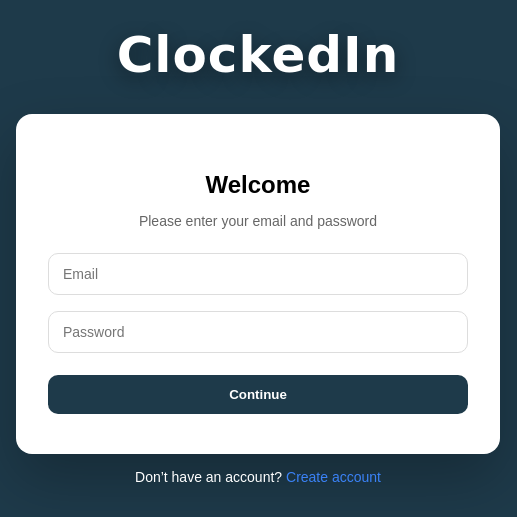
Test case: Login component › shows network error if fetch throws
The width and height of the screenshot is (517, 517).
Type "test@example.com" into the field with placeholder "Email" at (258, 274), box [48, 252, 468, 294]
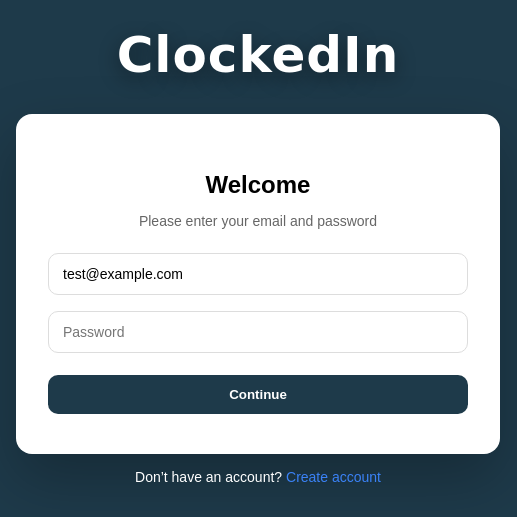
Type "secret123" into the password field with placeholder "Password" at (258, 332), box [48, 310, 468, 352]
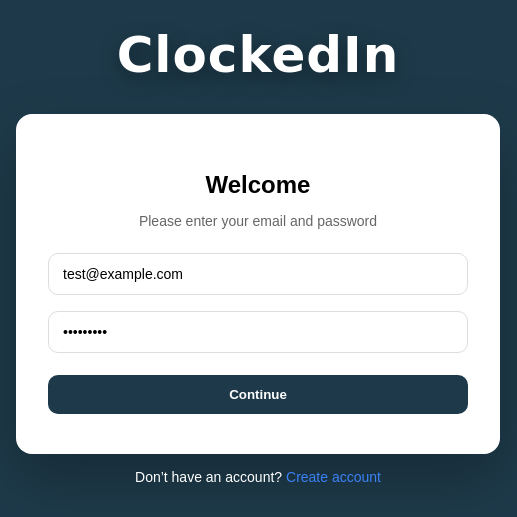
Click the button "Continue" at (258, 394), box [48, 374, 468, 414]
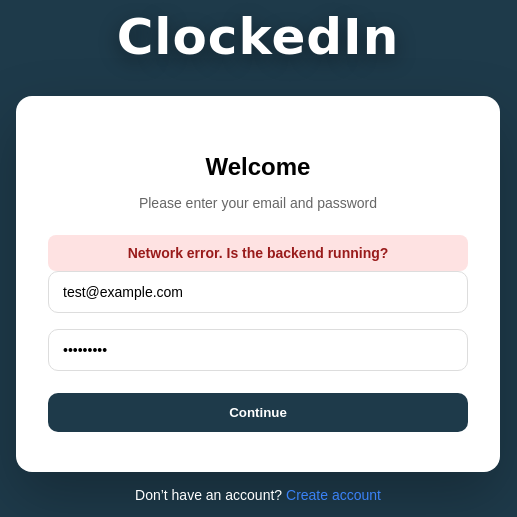
Check: the text "Network error. Is the backend running?" is shown, box [48, 234, 468, 270]
